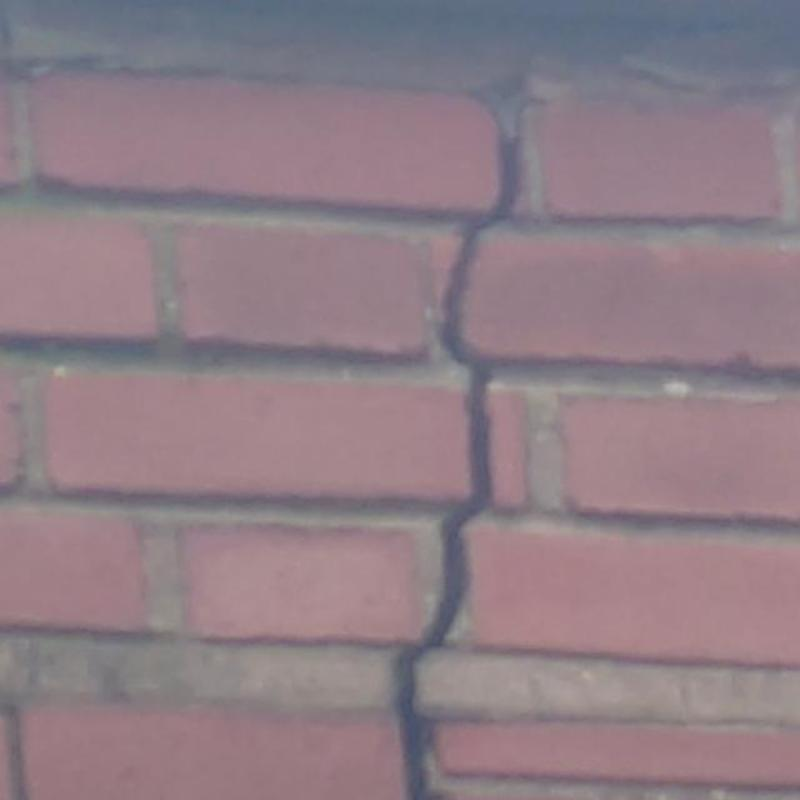pothole: (394, 77, 527, 800)
